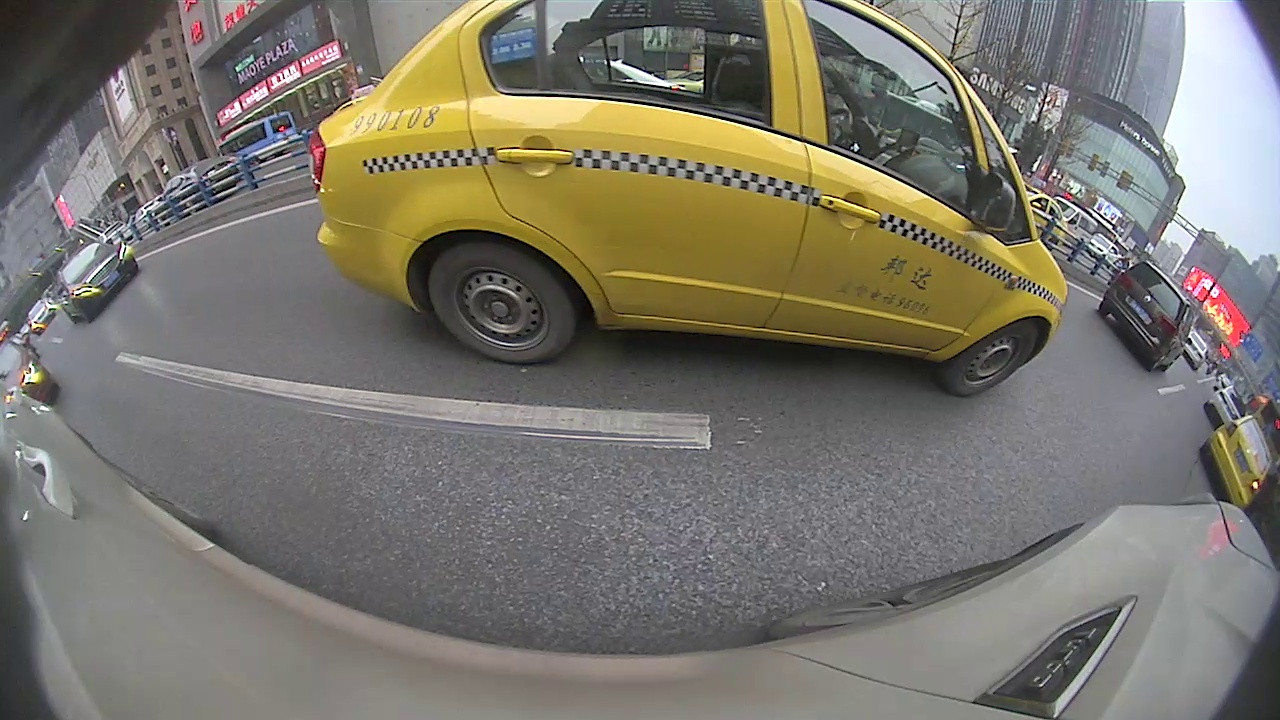car: (301, 1, 1072, 401), (1096, 258, 1199, 375), (1198, 413, 1278, 515), (49, 237, 141, 324)
front: (950, 320, 1038, 400)
rear: (429, 246, 574, 366)
